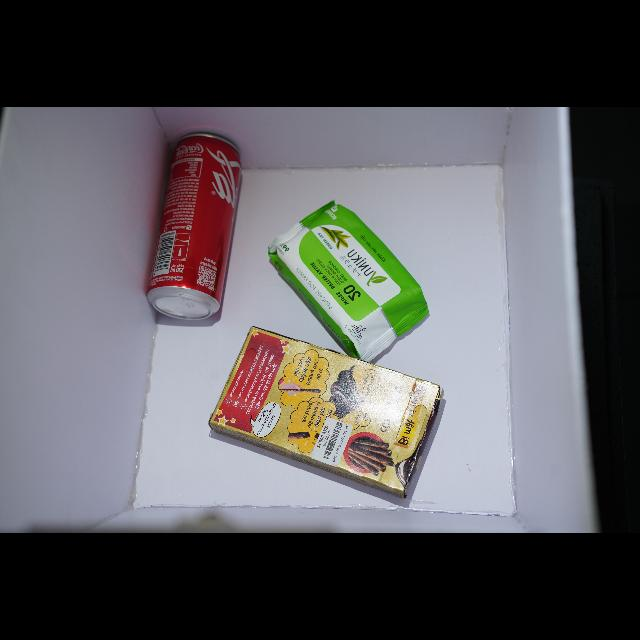banh_toppo_socola: (209, 327, 444, 499)
coca_cola: (147, 133, 241, 320)
khan_giay: (269, 201, 429, 362)
